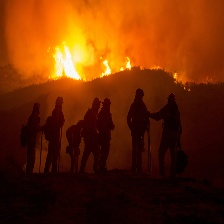fire: (48, 40, 85, 87), (96, 58, 114, 80), (119, 57, 135, 72), (170, 71, 180, 83)
smoke: (2, 2, 224, 62)
